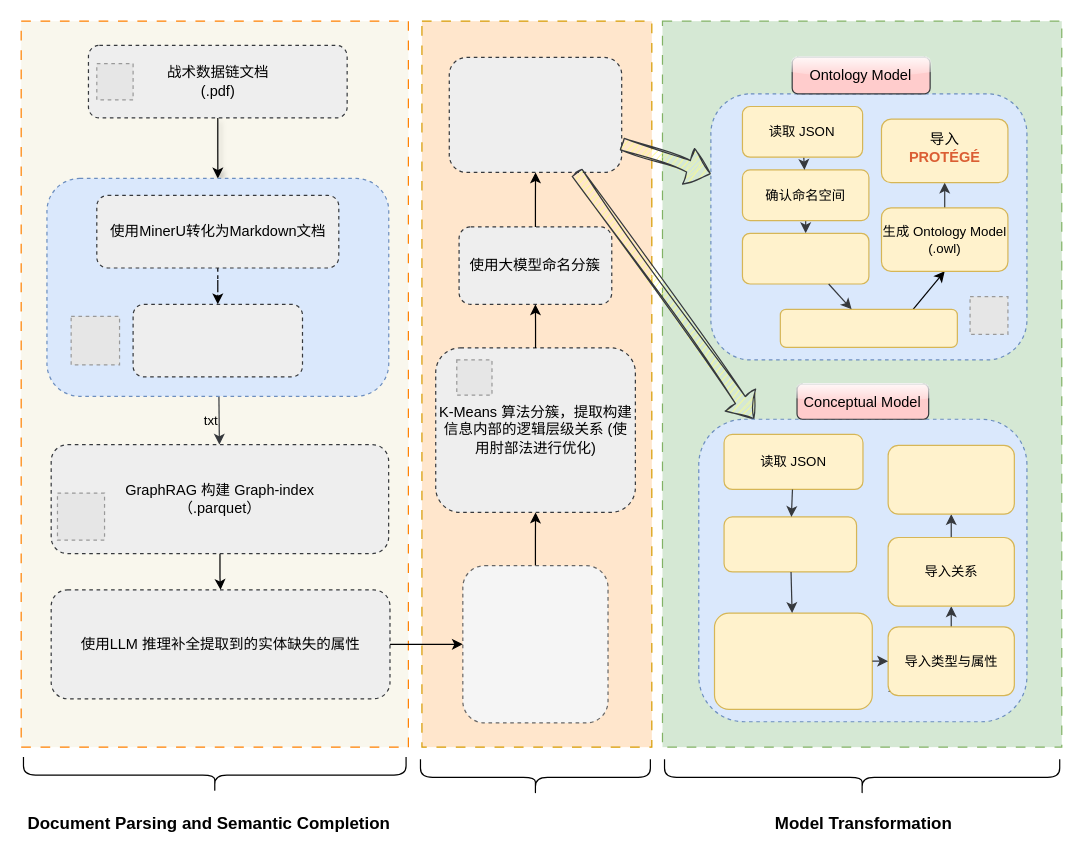
The diagram is 1083 pixels wide and 865 high, and some of its shapes have lost their labels. Grey dashed boxes stand in for pictures. Here are the shapes that lost their labels. From the top down, the centre of each, then its label:
pixel 535 114: 整理组织成 JSON 文件 (entities.json 与 relationships.json)
pixel 805 258: 对齐数据类型
pixel 217 340: OCR识别图片，并回嵌到文本原有为止
pixel 868 327: 结构化parent与subclass
pixel 950 479: 生成 Conceptual Model (.uml)
pixel 790 544: 设置UML参数
pixel 535 643: 词嵌入处理 （Embedding-3 ）
pixel 792 660: 将分簇的结果转化为UML中的Package
pixel 534 777: Structuring of Knowledge
